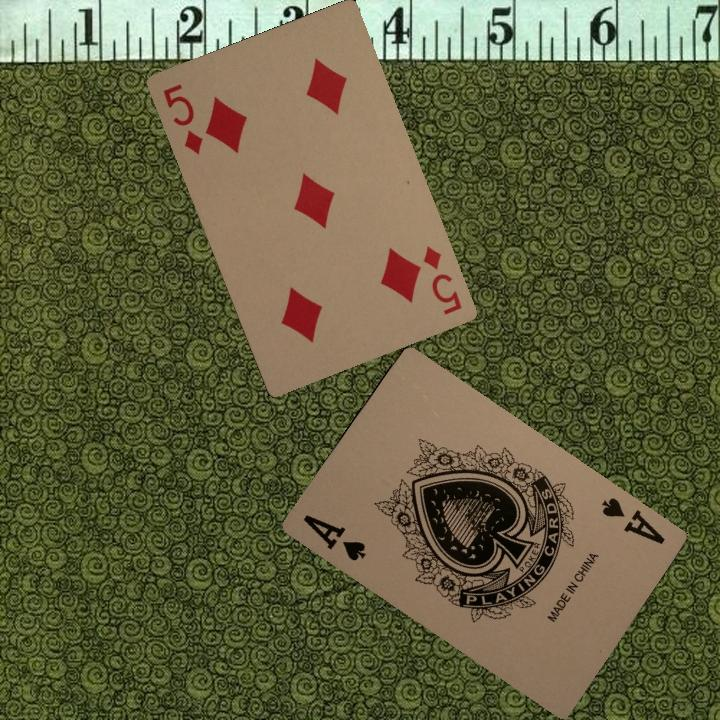5d: (159, 79, 206, 157), (418, 242, 465, 318)
As: (299, 510, 369, 564), (598, 493, 668, 547)
